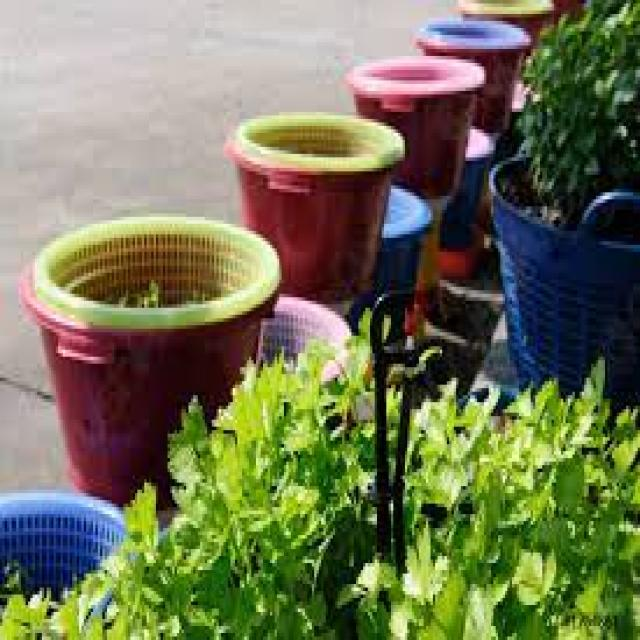basket: (0, 160, 297, 533), (219, 109, 407, 305), (491, 157, 640, 400), (0, 493, 126, 598), (348, 50, 489, 114), (258, 297, 351, 362)
